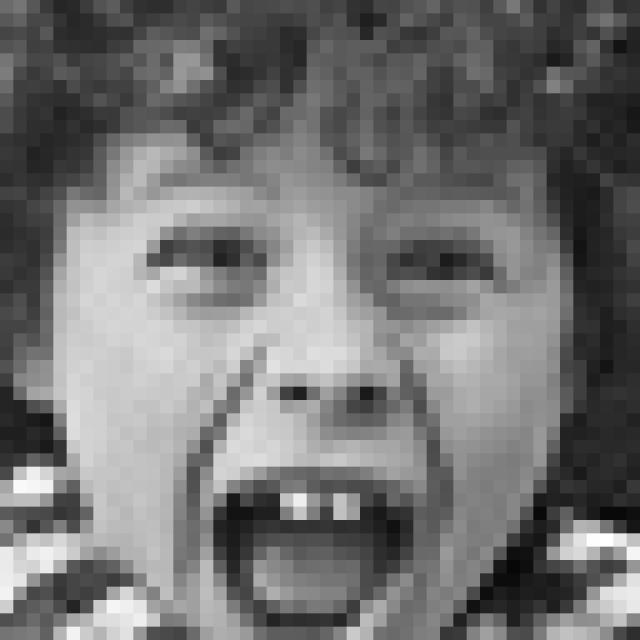fear: (135, 166, 528, 640)
